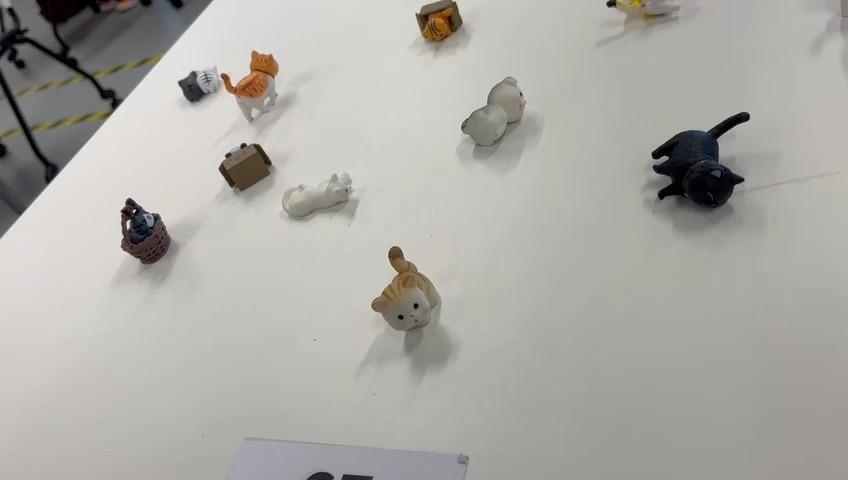pet: (648, 107, 752, 212), (368, 242, 445, 340), (454, 72, 529, 150), (222, 47, 282, 125), (280, 169, 358, 226), (114, 194, 174, 264), (217, 137, 274, 194), (417, 0, 464, 50), (175, 64, 220, 101)
